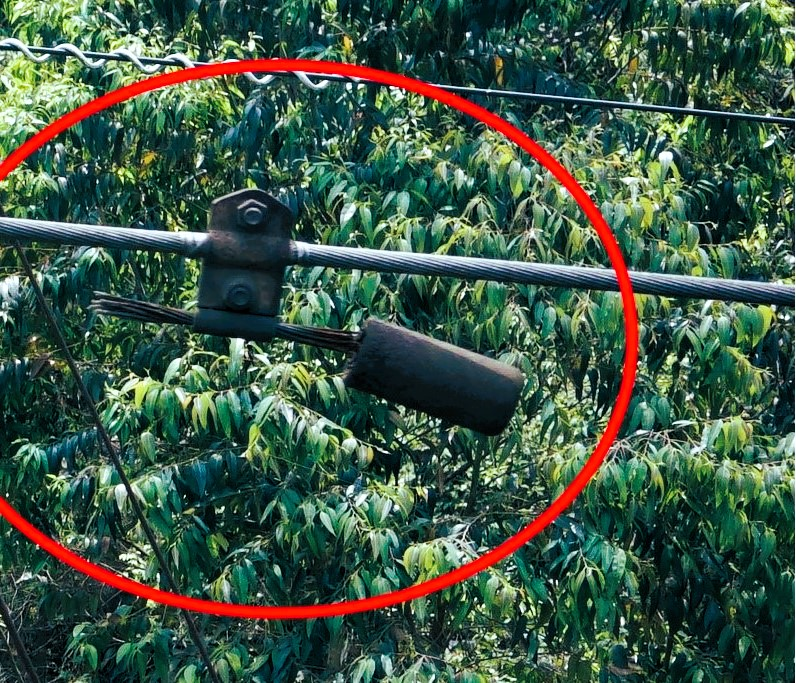Damage of shockproof hammer: (73, 183, 535, 443)
